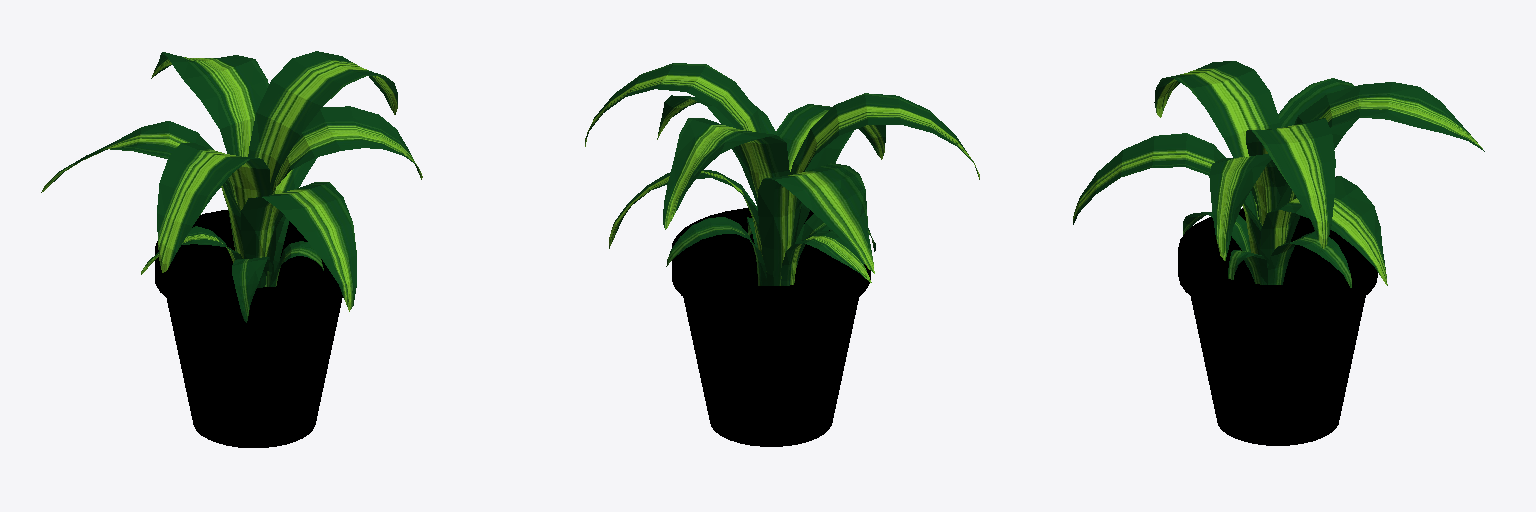
3 views of the same model, side by side, from view 1: azimuth 30°, elevation 25°; view 2: azimuth 150°, elevation 25°; view 3: azimuth 270°, elevation 25° (orthographic).
Parts seen in each view (by area): view 1: maceta:Mesh; view 2: maceta:Mesh; view 3: maceta:Mesh.
Boxes of the visible parts, x1,y1,x2,y2 form: maceta:Mesh: [41, 51, 422, 447]; maceta:Mesh: [585, 63, 979, 446]; maceta:Mesh: [1073, 61, 1484, 445].
Bounding box in the file's own units: 35.2 × 34.66 × 39.14.
2 materials, 2 textured.